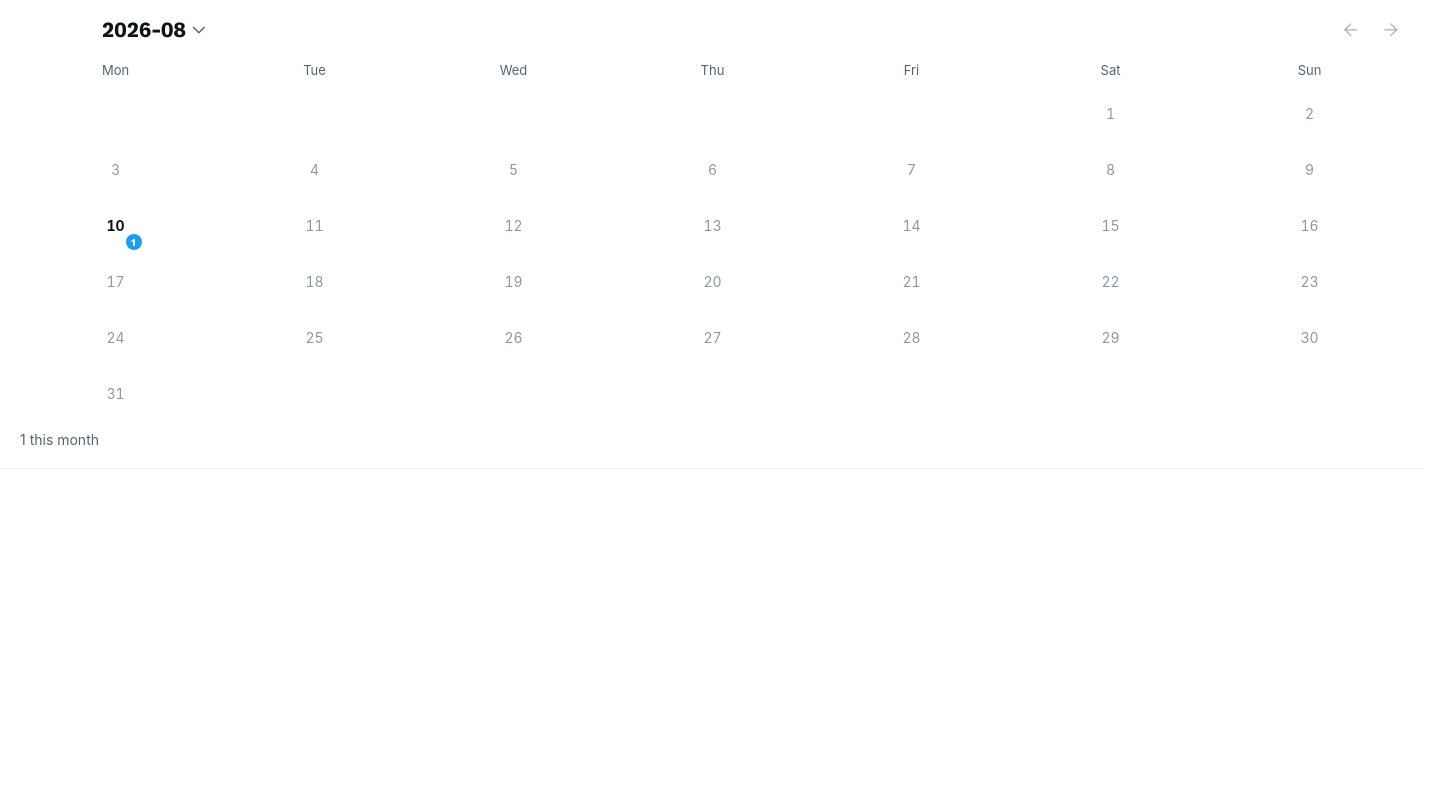
Test: uses numeric archive dates in en
This screenshot has width=1440, height=810.
Click the button "2026-08".
click(155, 30)  # box [94,8,215,52]
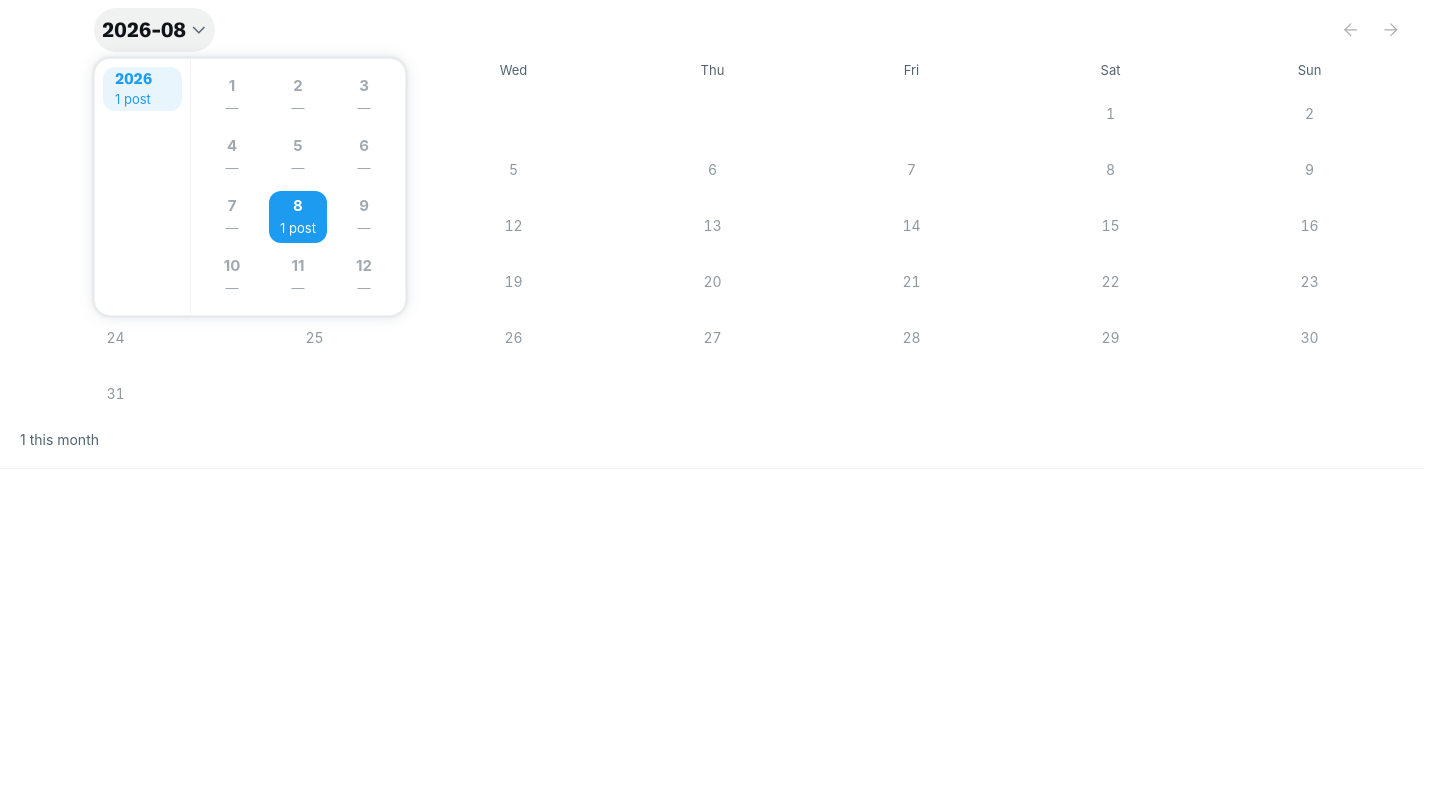
Check: the link "8 1 post" is shown, box [269,191,327,243]
Check: the 2nd text "1 post" is shown, box [280,218,316,238]
Check: the 1st text "1 post" is shown, box [115,89,151,109]
